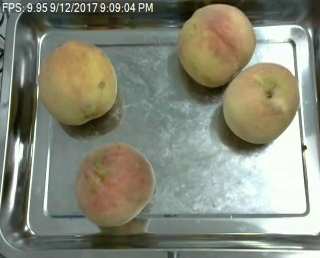Peach: (37, 39, 118, 126), (75, 141, 155, 229), (221, 62, 299, 146), (178, 4, 256, 86)
